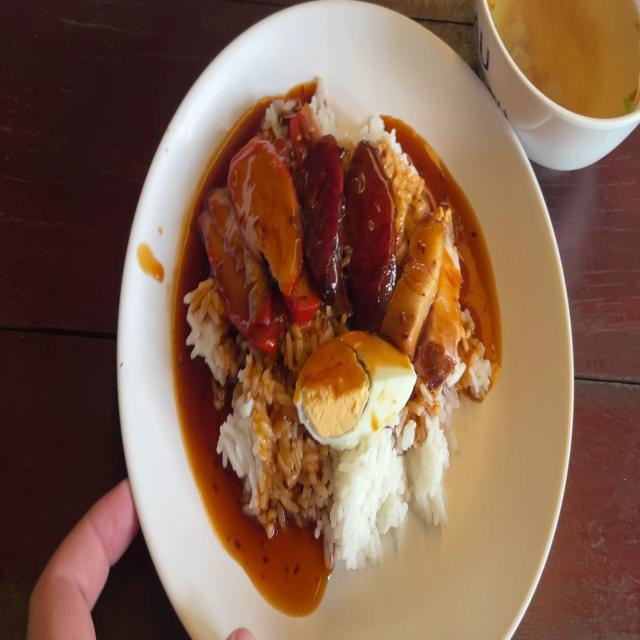01boiled_egg: (296, 330, 414, 443)
01chainese_sausage: (305, 137, 401, 306), (345, 135, 391, 318), (300, 133, 348, 308)
01crispy_pork: (389, 199, 467, 371), (399, 221, 435, 351), (427, 237, 457, 363)
01red_pork: (204, 139, 306, 345), (205, 196, 272, 339), (242, 134, 299, 278)
01red_pork_and_crispy_pork: (189, 84, 487, 552)
01rice: (297, 452, 453, 551), (202, 363, 293, 509), (187, 267, 230, 380)
